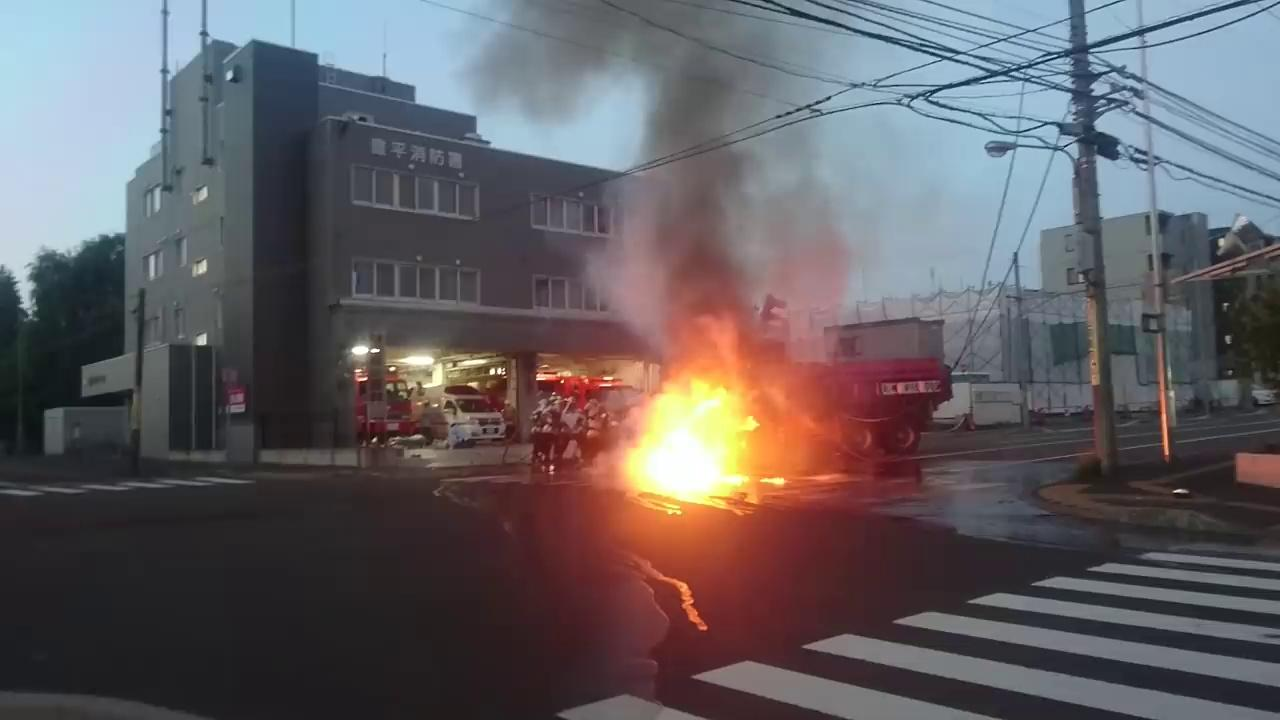Fire: (631, 394, 769, 522)
